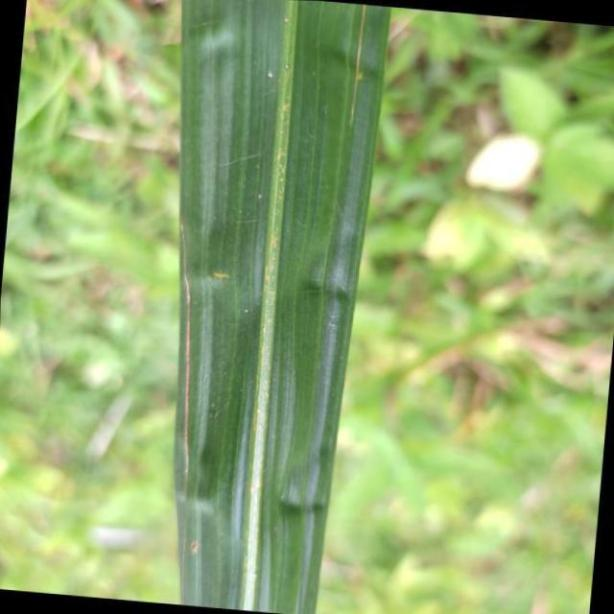Boron: (182, 0, 390, 614)
